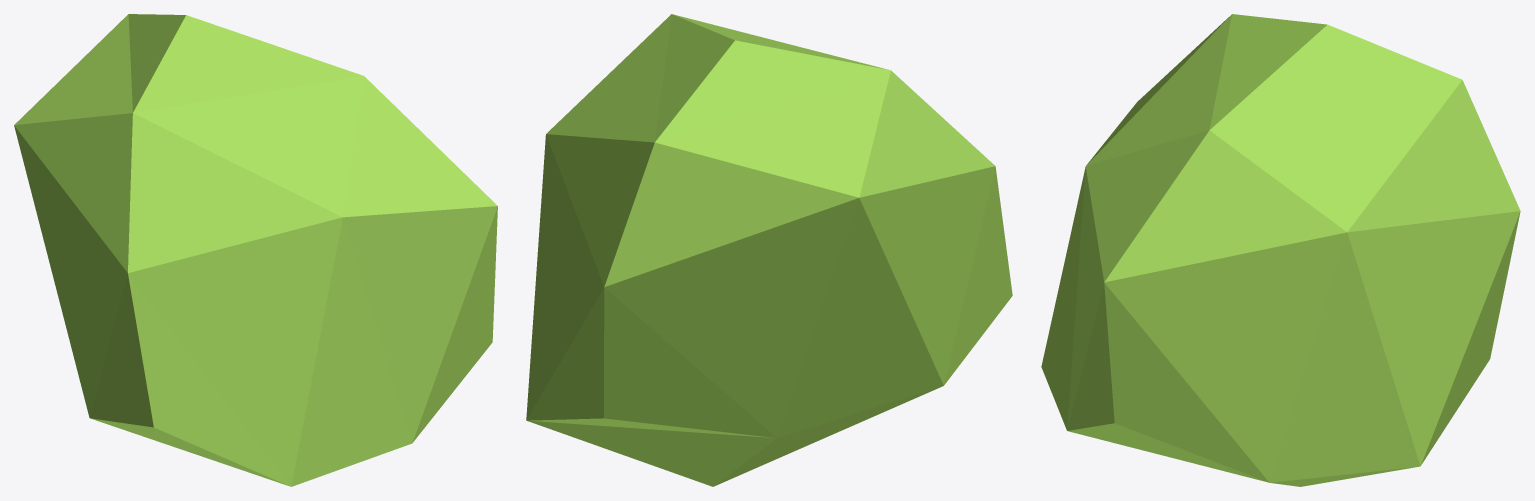
Rendered from Yucca3_leaves.fbx.
3 renders of one model, left to right at view 1: azimuth 30°, elevation 25°; view 2: azimuth 150°, elevation 25°; view 3: azimuth 270°, elevation 25°, orthographic. The views are drawn at different scales.
Visible parts, largest first — view 1: GeoSphere0; view 2: GeoSphere0; view 3: GeoSphere0.
Part boxes in pixels (bbox=[...]): GeoSphere0: bbox=[14, 14, 497, 486]; GeoSphere0: bbox=[526, 14, 1012, 486]; GeoSphere0: bbox=[1041, 14, 1520, 486].
Bounding box in the file's own units: 48.77 × 57.5 × 56.06.
